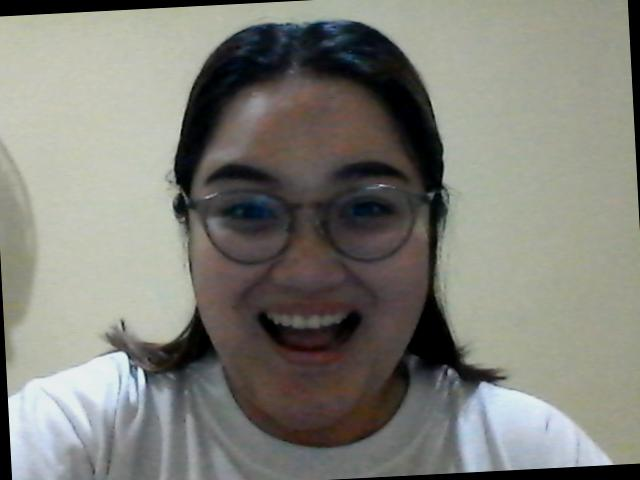senang: (176, 60, 438, 385)
